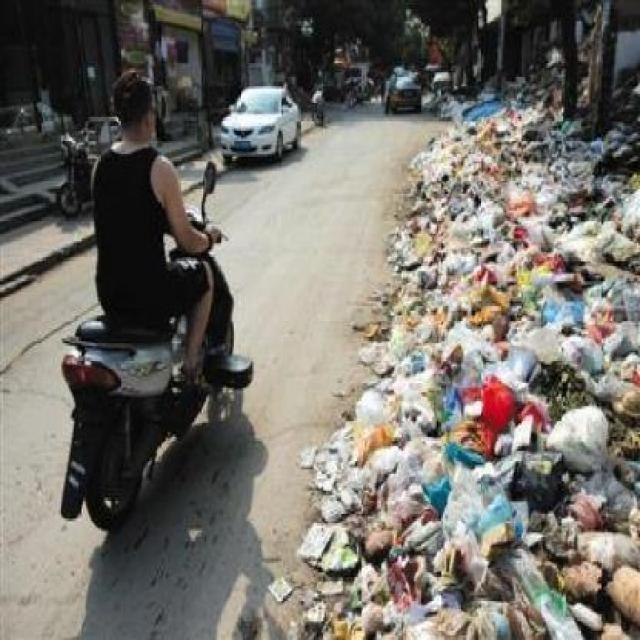garbage: (425, 117, 624, 610), (339, 432, 579, 594)
